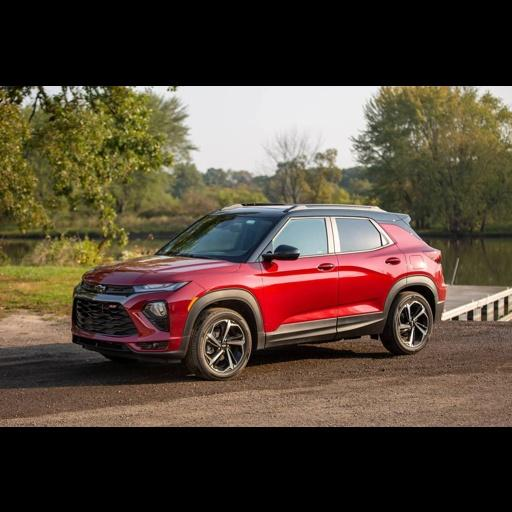suv: (73, 204, 444, 380)
